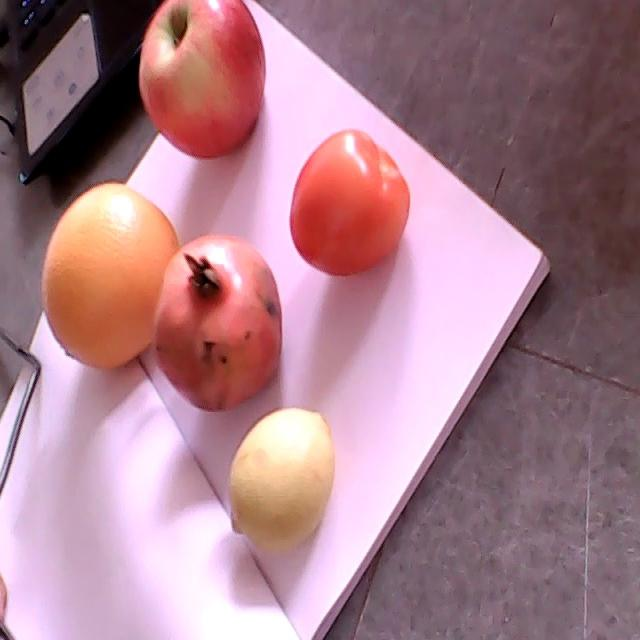apple: (138, 0, 267, 162)
lemon: (228, 408, 334, 555)
orange: (40, 183, 177, 366)
pomegranate: (152, 231, 284, 408)
tomato: (291, 128, 409, 278)
